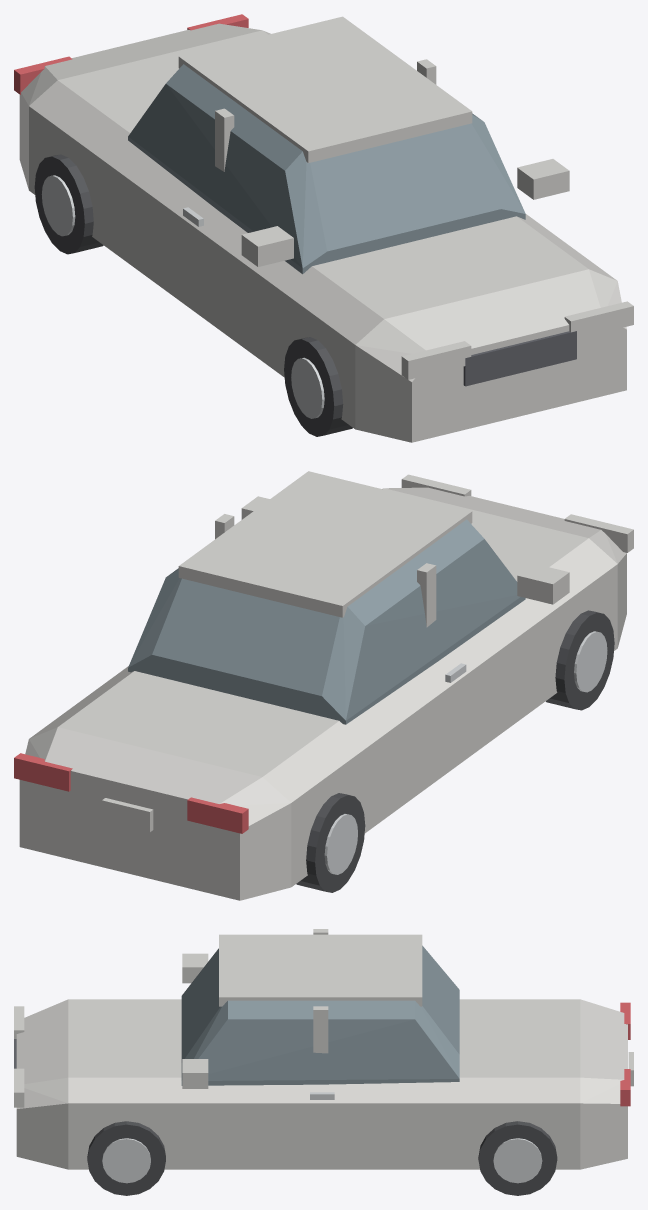
File: camry-2008.glb
3 renders of one model, top to bottom at view 1: azimuth 30°, elevation 25°; view 2: azimuth 150°, elevation 25°; view 3: azimuth 270°, elevation 25°, orthographic. The views are drawn at different scales.
Parts seen in each view (by area): view 1: body, cabin_glass, roof, grille, wheel_-1_-1_tire, wheel_-1_1_tire, headlight_-1, mirror_-1, mirror_1, headlight_1, wheel_-1_1_rim, wheel_-1_-1_rim (+2 smaller); view 2: body, cabin_glass, roof, wheel_-1_1_tire, wheel_-1_-1_tire, mirror_-1, taillight_-1, wheel_-1_1_rim, wheel_-1_-1_rim, taillight_1, rear_plate, headlight_-1 (+2 smaller); view 3: body, cabin_glass, roof, wheel_1_-1_tire, wheel_1_1_tire, wheel_1_-1_rim, wheel_1_1_rim, mirror_1, pillar_1, mirror_-1, headlight_1.
Boxes of the visible parts, box(x1,y1,x2,y2) form: body: box(19, 23, 626, 442); cabin_glass: box(128, 64, 525, 274); roof: box(178, 16, 472, 162); grille: box(463, 331, 576, 386); wheel_-1_-1_tire: box(34, 154, 103, 254); wheel_-1_1_tire: box(284, 337, 352, 436); headlight_-1: box(401, 341, 471, 379); mirror_-1: box(241, 226, 293, 266); mirror_1: box(517, 159, 569, 199); headlight_1: box(564, 301, 633, 338); wheel_-1_1_rim: box(291, 357, 324, 418); wheel_-1_-1_rim: box(41, 175, 75, 236); body: box(19, 487, 626, 900); cabin_glass: box(128, 519, 525, 724); roof: box(178, 471, 472, 617); wheel_-1_1_tire: box(546, 610, 614, 710); wheel_-1_-1_tire: box(296, 793, 365, 892); mirror_-1: box(517, 563, 569, 604); taillight_-1: box(187, 797, 248, 833); wheel_-1_1_rim: box(574, 631, 607, 692); wheel_-1_-1_rim: box(324, 814, 357, 874); taillight_1: box(14, 753, 72, 791); rear_plate: box(102, 798, 153, 832); headlight_-1: box(564, 514, 633, 552); body: box(16, 999, 627, 1169); cabin_glass: box(181, 945, 459, 1085); roof: box(219, 934, 422, 1006); wheel_1_-1_tire: box(478, 1121, 557, 1195); wheel_1_1_tire: box(87, 1121, 165, 1195); wheel_1_-1_rim: box(493, 1138, 542, 1183); wheel_1_1_rim: box(102, 1138, 150, 1183); mirror_1: box(182, 1059, 208, 1088); pillar_1: box(313, 1006, 328, 1053); mirror_-1: box(182, 953, 208, 983); headlight_1: box(14, 1068, 24, 1107).
Bounding box in the file's own units: 2.08 × 1.43 × 4.57.
